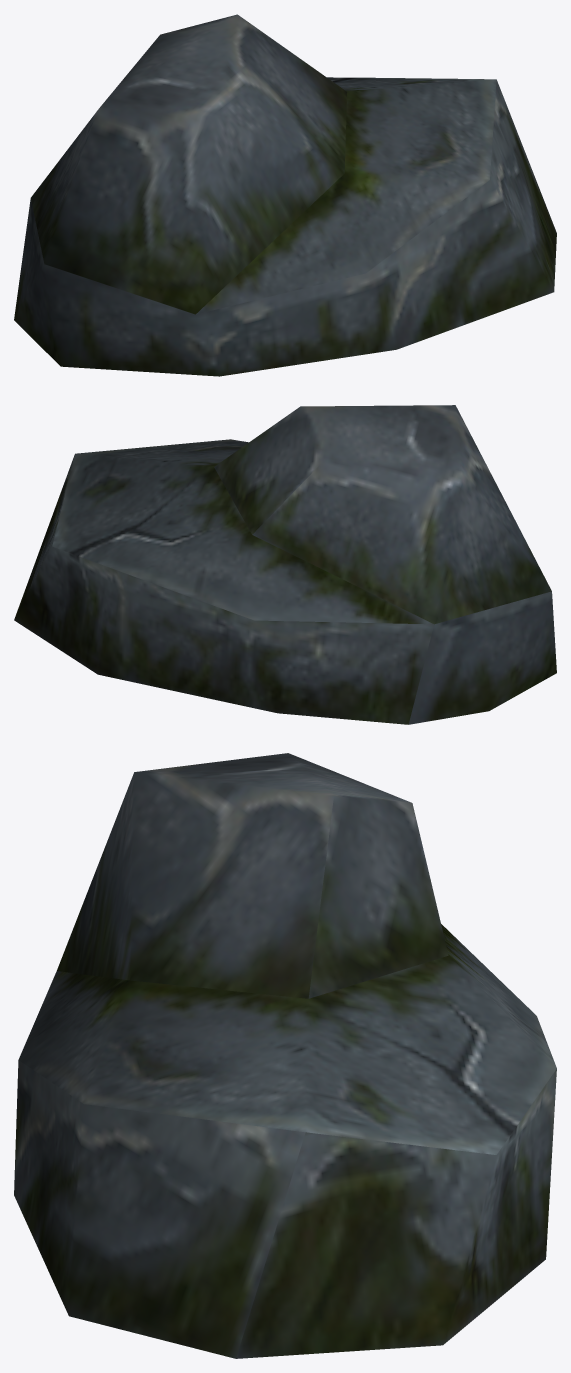
Rendered from C_shitou003.fbx.
3 views of the same model, one above another, from view 1: azimuth 30°, elevation 25°; view 2: azimuth 150°, elevation 25°; view 3: azimuth 270°, elevation 25° (orthographic). The views are drawn at different scales.
Visible parts, largest first — view 1: C_shitou003; view 2: C_shitou003; view 3: C_shitou003.
Part boxes in pixels (x1,y1,x2,y2): C_shitou003: (14, 14, 556, 376); C_shitou003: (14, 405, 556, 724); C_shitou003: (14, 753, 556, 1358).
Size of the model in its own units: 80.58 by 39.32 by 52.59.
